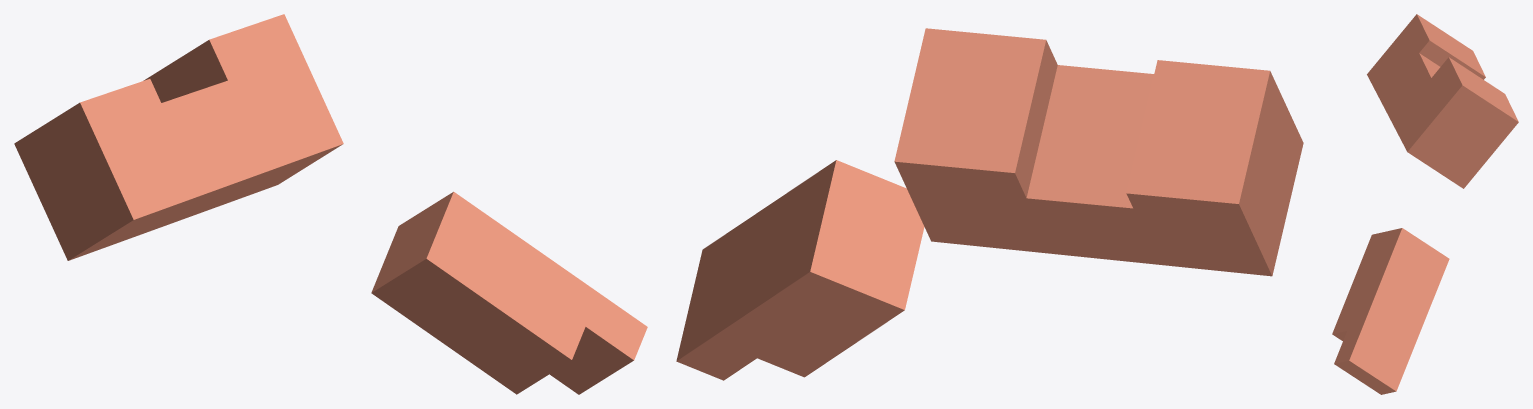
3 views of the same model, side by side, from view 1: azimuth 30°, elevation 25°; view 2: azimuth 150°, elevation 25°; view 3: azimuth 270°, elevation 25° (orthographic). The views are drawn at different scales.
Visible parts, largest first — view 1: mesh; view 2: mesh; view 3: mesh.
Part boxes in pixels (box(x1,y1,x2,y2)): mesh: box(14, 14, 647, 394); mesh: box(676, 28, 1303, 380); mesh: box(1332, 14, 1518, 394).
Bounding box in the file's own units: 54.73 × 38.45 × 26.83.
